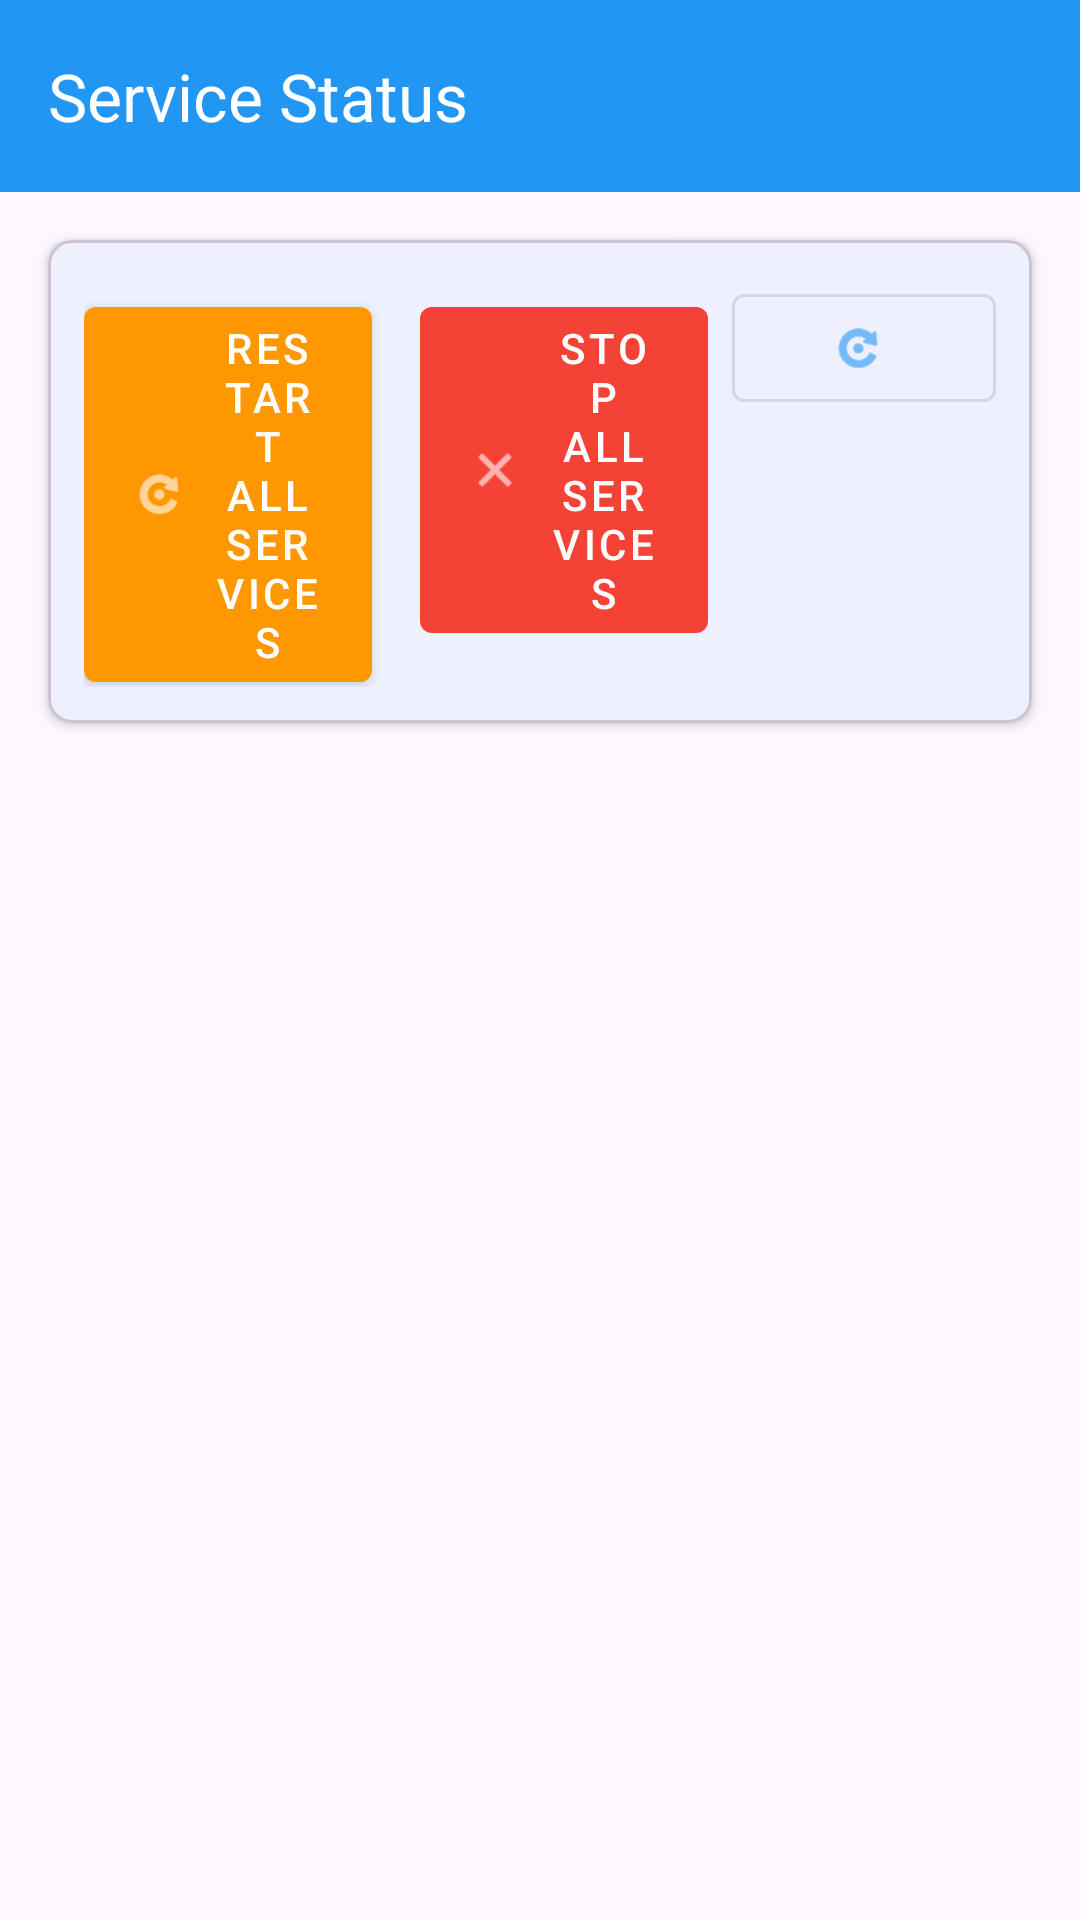

Named icons in this screenshot (1080w x 1920h) and their centers, (x,y):
rotate: (864,348)
